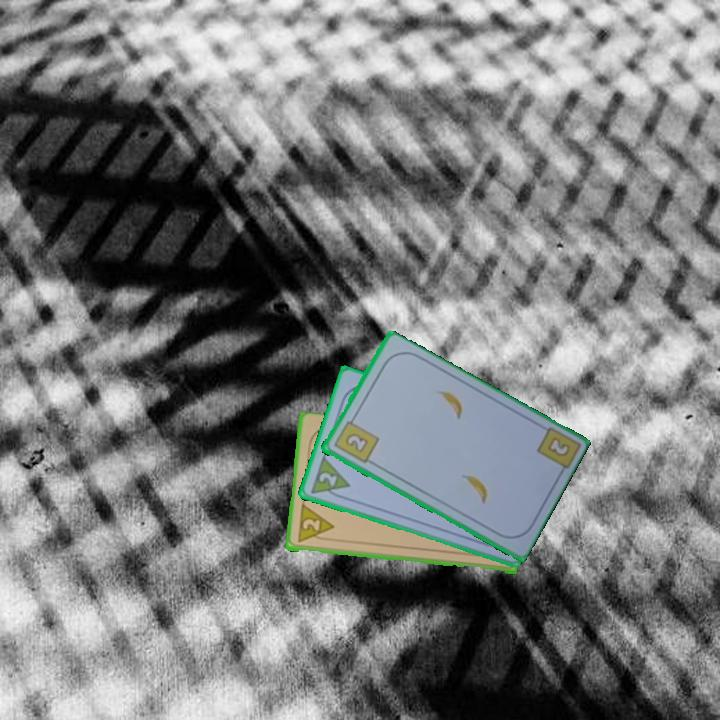2b: (330, 413, 381, 466), (546, 436, 571, 458)
2p: (307, 453, 352, 503), (294, 503, 336, 546)
